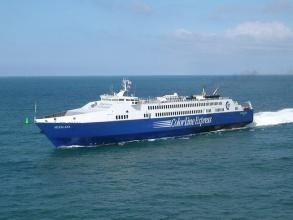youlun: (36, 75, 259, 145)
